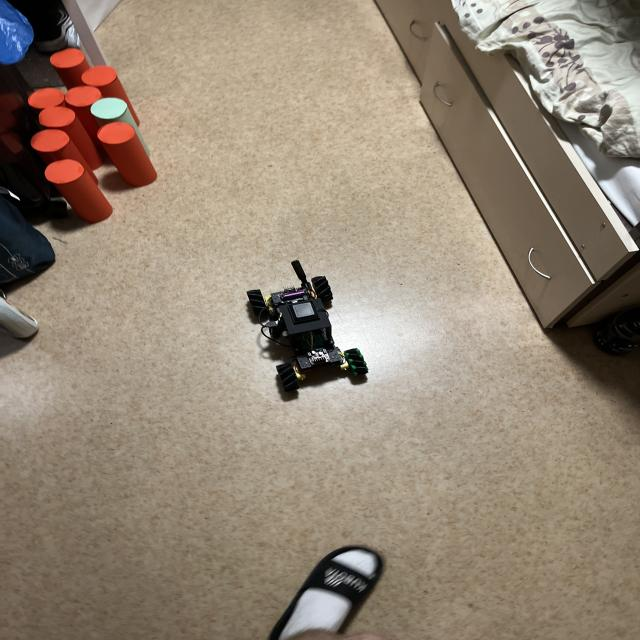robot: (247, 261, 368, 391)
